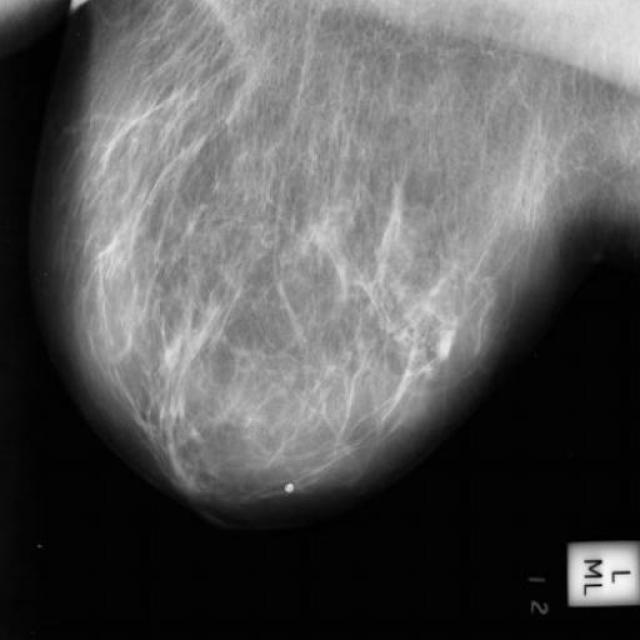cancer: (420, 256, 466, 326)
